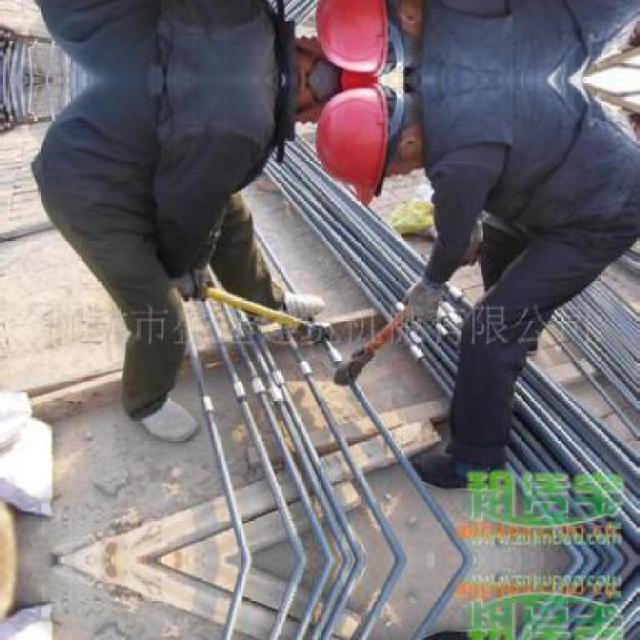helmet: (318, 89, 427, 203), (317, 0, 428, 72), (291, 82, 395, 118), (291, 42, 395, 78)
